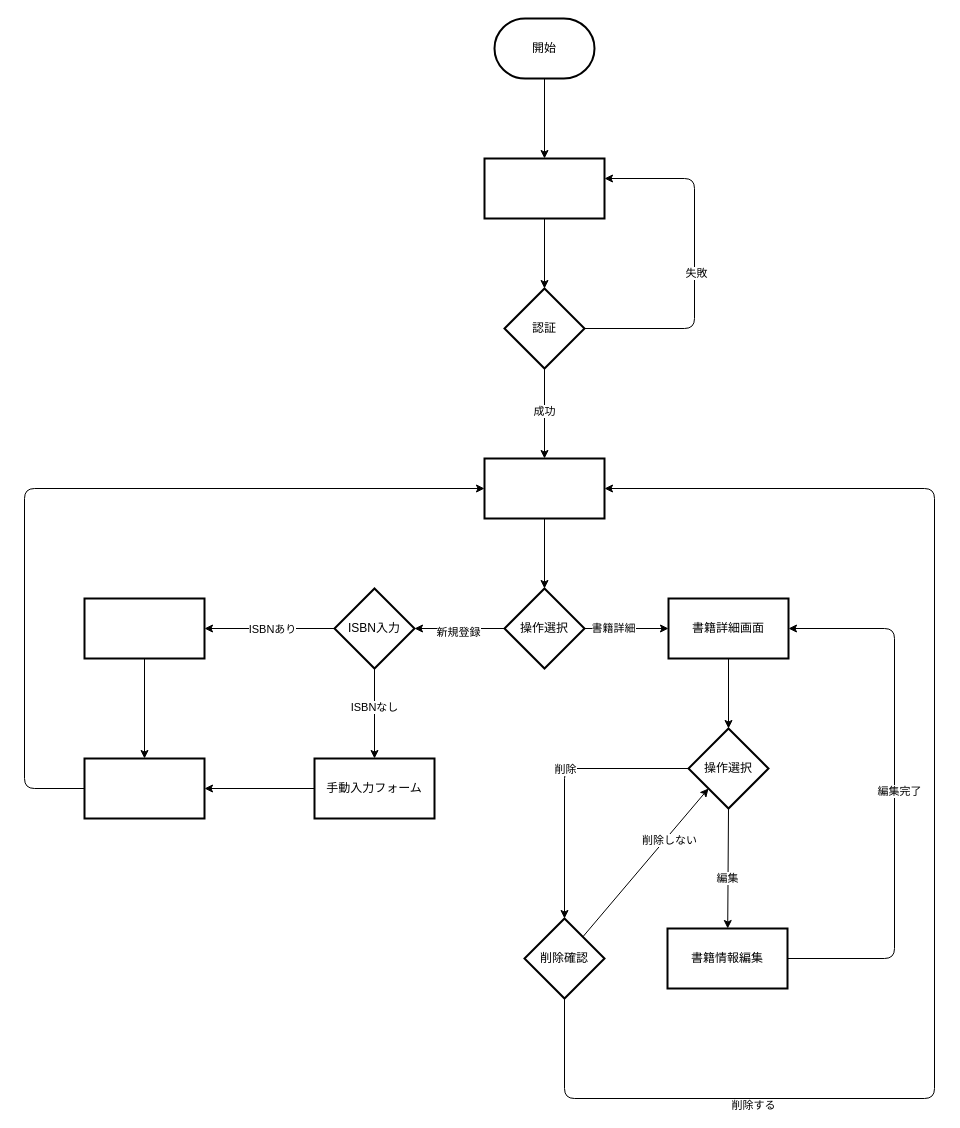
The diagram is 960 pixels wide and 1128 high, and some of its shapes have lost their labels. Here are the shapes that lost their labels. From the top down, the centre of each, then its label:
the point at 544,188: ログイン画面
the point at 544,488: 書籍一覧画面
the point at 144,628: 外部APIから 書籍情報を取得
the point at 144,788: 書籍情報確認・登録
